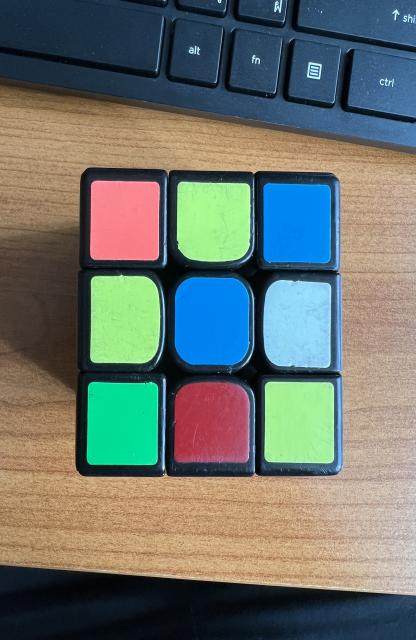Blue: (174, 278, 249, 365), (263, 184, 330, 264)
Green: (87, 382, 158, 465)
Orange: (90, 180, 159, 260)
Red: (174, 382, 249, 462)
White: (263, 280, 332, 368)
Yellow: (90, 275, 160, 364), (177, 181, 250, 262), (264, 381, 334, 464)
